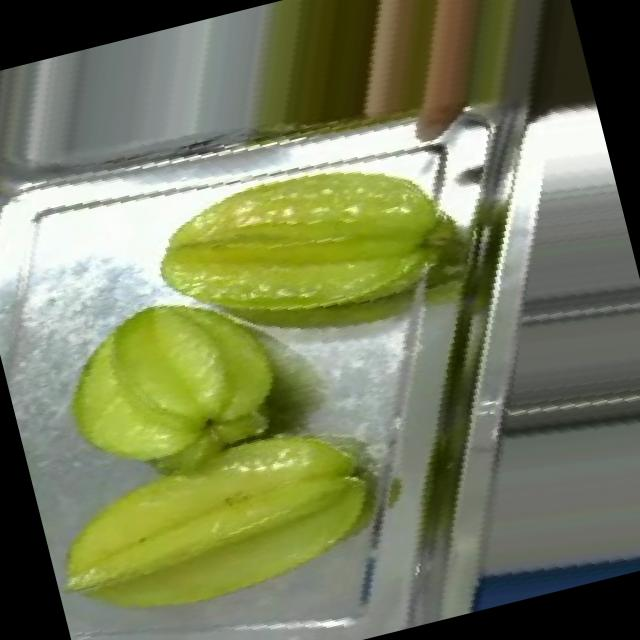fruit: (22, 342, 428, 640), (123, 114, 494, 392), (13, 238, 332, 516), (295, 0, 598, 177)
